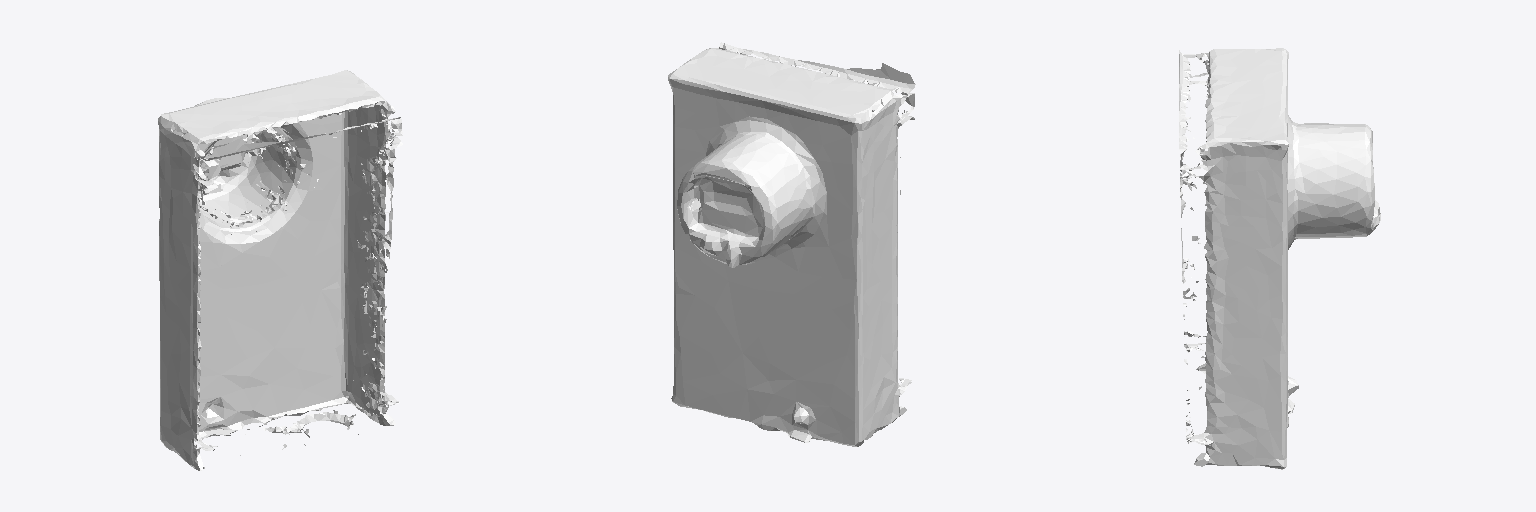
Rendered from ER_Fire_Pump_Meter.obj.
3 views of the same model, side by side, from view 1: azimuth 30°, elevation 25°; view 2: azimuth 150°, elevation 25°; view 3: azimuth 270°, elevation 25° (orthographic).
Visible parts, largest first — view 1: FirePumpMeter; view 2: FirePumpMeter; view 3: FirePumpMeter.
Part boxes in pixels (left/top/right/bottom): FirePumpMeter: left=158, top=70, right=402, bottom=470; FirePumpMeter: left=668, top=42, right=915, bottom=446; FirePumpMeter: left=1179, top=48, right=1380, bottom=469.
Bounding box in the file's own units: 0.3204 × 0.5411 × 0.2889.